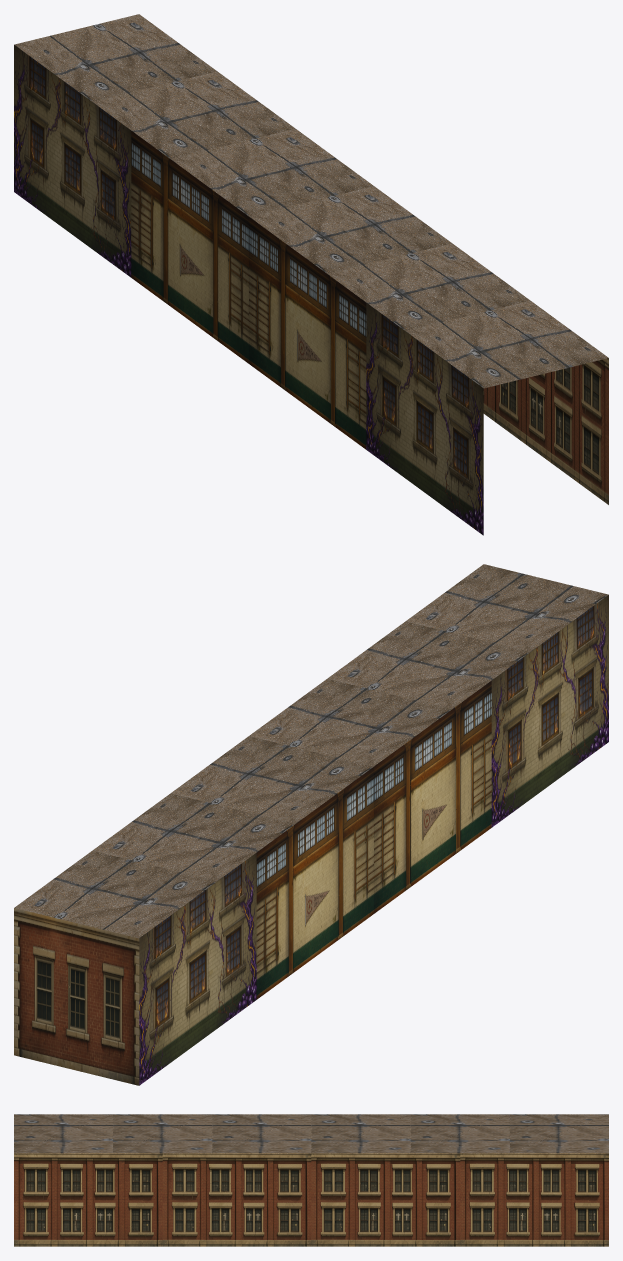
The model's file is LM_HollywoodHigh_Wing.fbx.
The picture shows the model from 3 angles, top to bottom: view 1: azimuth 30°, elevation 25°; view 2: azimuth 150°, elevation 25°; view 3: azimuth 270°, elevation 25°; orthographic projection. The views are drawn at different scales.
Visible parts, largest first — view 1: LM_HollywoodHigh_Wing; view 2: LM_HollywoodHigh_Wing; view 3: LM_HollywoodHigh_Wing.
Boxes of the visible parts, x1,y1,x2,y2 form: LM_HollywoodHigh_Wing: (14, 14, 608, 535); LM_HollywoodHigh_Wing: (14, 564, 608, 1085); LM_HollywoodHigh_Wing: (14, 1114, 608, 1246).
Bounding box in the file's own units: 8 × 52 × 9.
1 material, 1 textured.
